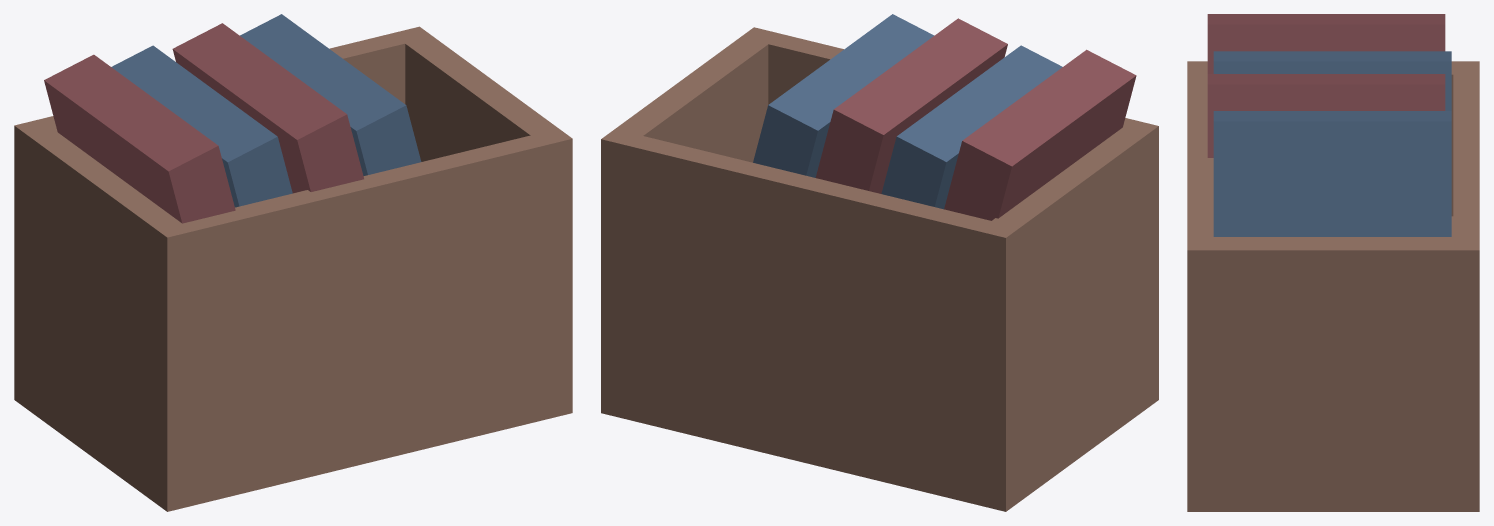
Rendered from seyf_2.gltf.
3 renders of one model, left to right at view 1: azimuth 30°, elevation 25°; view 2: azimuth 150°, elevation 25°; view 3: azimuth 270°, elevation 25°, orthographic. The views are drawn at different scales.
Parts seen in each view (by area): view 1: Cube.016, Cube.009, Cube.002, Cube.010, Cube.001; view 2: Cube.016, Cube.009, Cube.002, Cube.010, Cube.001; view 3: Cube.016, Cube.001, Cube.009, Cube.002, Cube.010.
Part boxes in pixels (x1=…): Cube.016: x1=14, y1=26, x2=572, y2=511; Cube.009: x1=44, y1=54, x2=235, y2=223; Cube.002: x1=172, y1=23, x2=363, y2=193; Cube.010: x1=111, y1=45, x2=292, y2=207; Cube.001: x1=240, y1=14, x2=421, y2=175; Cube.016: x1=601, y1=27, x2=1158, y2=511; Cube.009: x1=944, y1=49, x2=1136, y2=220; Cube.002: x1=815, y1=18, x2=1007, y2=193; Cube.010: x1=881, y1=45, x2=1062, y2=209; Cube.001: x1=753, y1=14, x2=934, y2=177; Cube.016: x1=1187, y1=61, x2=1479, y2=511; Cube.001: x1=1213, y1=111, x2=1451, y2=236; Cube.009: x1=1207, y1=14, x2=1445, y2=73; Cube.002: x1=1207, y1=74, x2=1445, y2=157; Cube.010: x1=1213, y1=51, x2=1451, y2=110.
Bounding box in the file's own units: 3.06 × 2.47 × 2.
